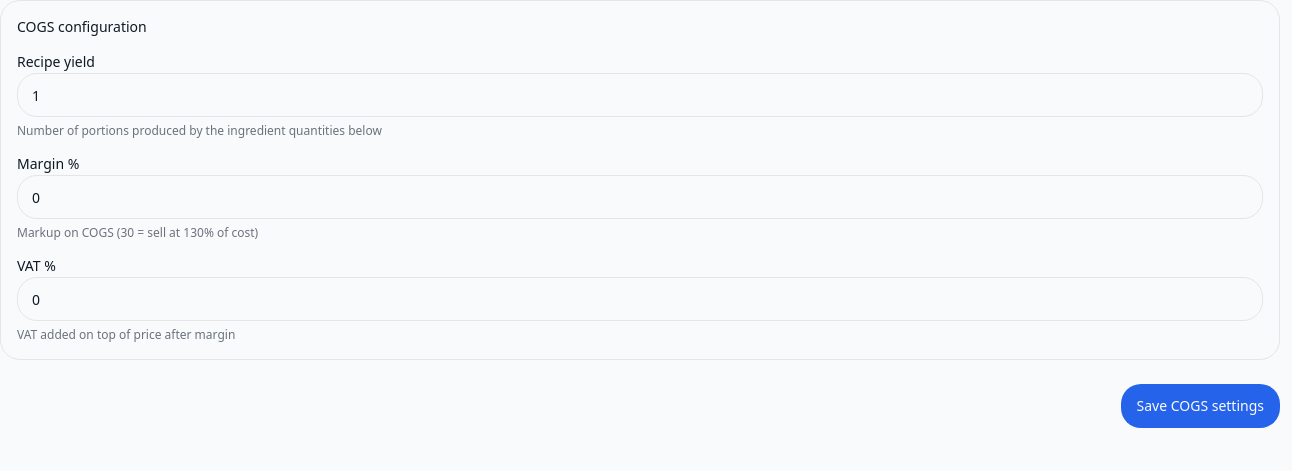
Scenario: MenuCogsForm › rejects recipe yield of zero
The image size is (1292, 471).
Replace the text in the number field labelled "Recipe yield" with "0": (640, 95) [17,73,1263,117]
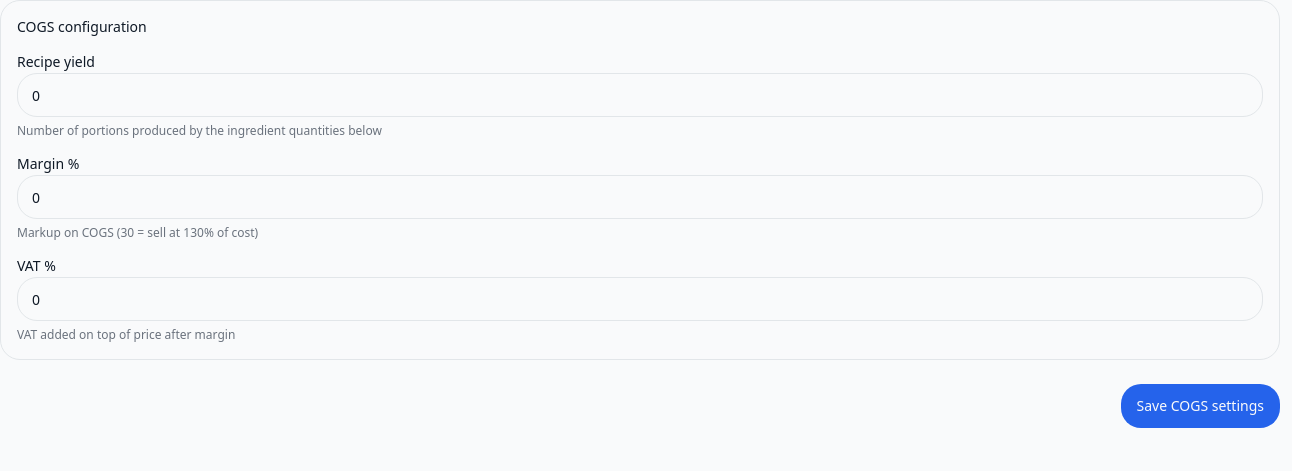
Click the button "Save COGS settings": (1200, 406) [1120,384,1280,428]
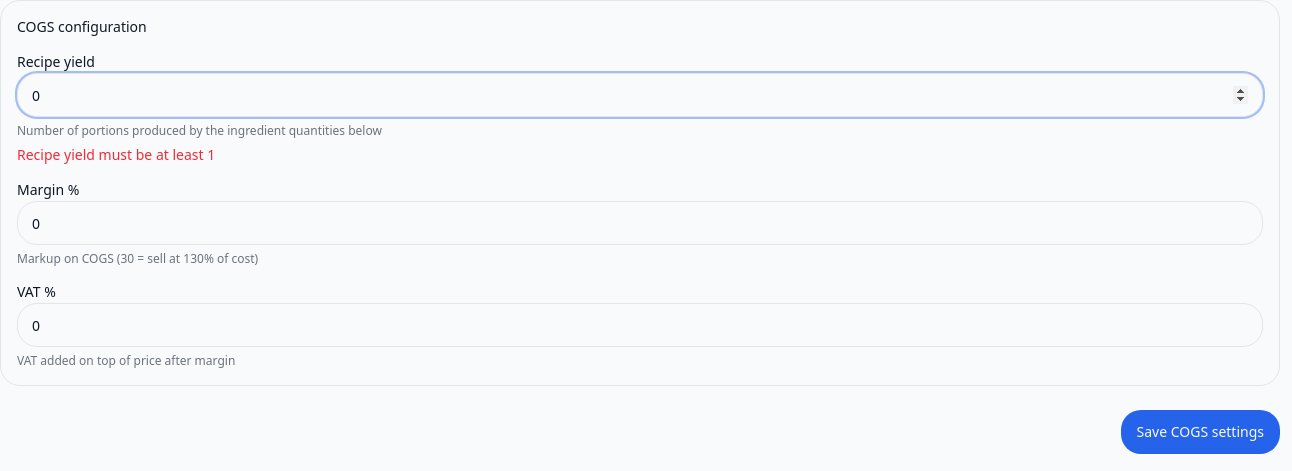
Expected: the text "Recipe yield must be at least 1" is shown, [17,145,215,164]
